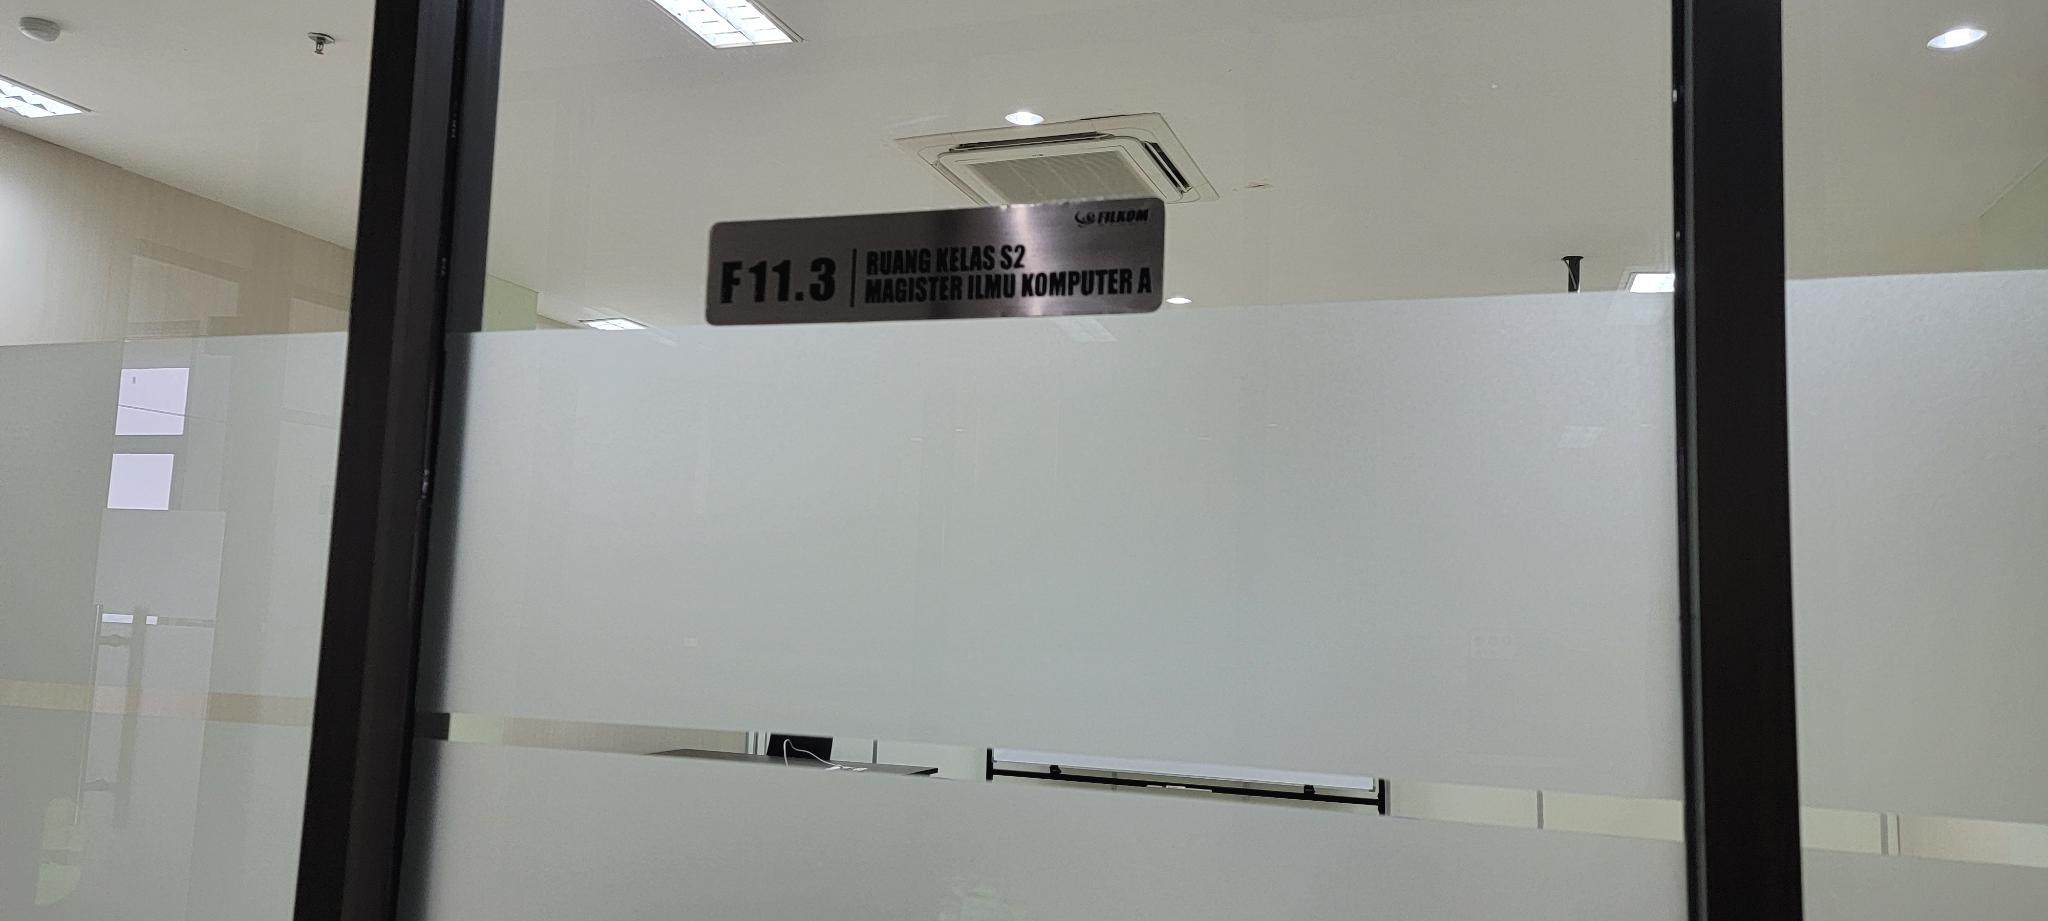plate: (704, 196, 1165, 331)
